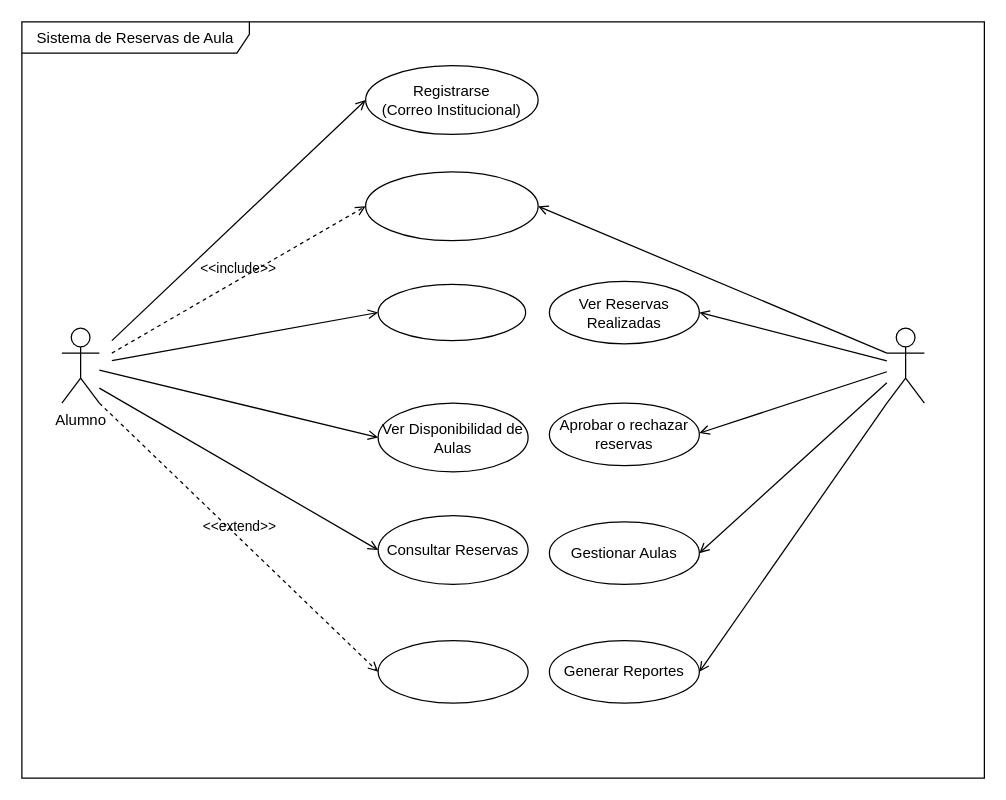
Image size: 1006x800. Some labels were removed from this diagram. The shapes that lost their labels are listed below. From the top down, each one's centre as x and y in pixels, then its label:
At [451,206]: "Iniciar Sesión (Correo Institucional)".
At [451,312]: "Realizar Reservas".
At [905,365]: "Administrador".
At [452,671]: "Cancelar Reservas".
